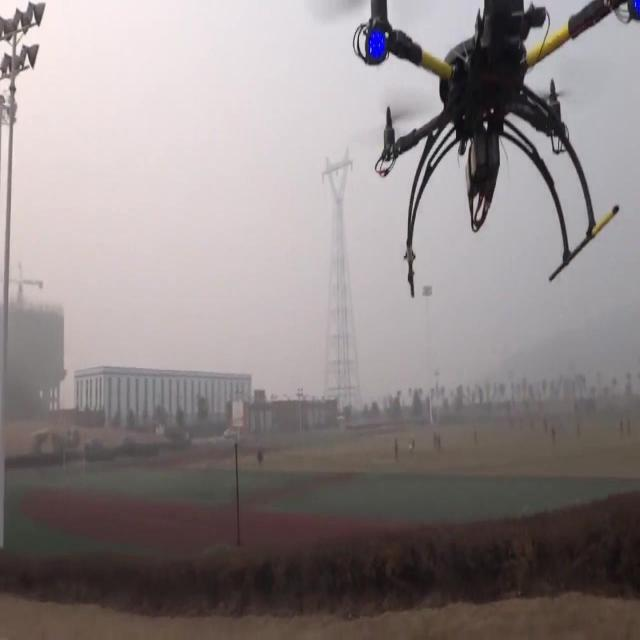UAV: (353, 0, 640, 298)
